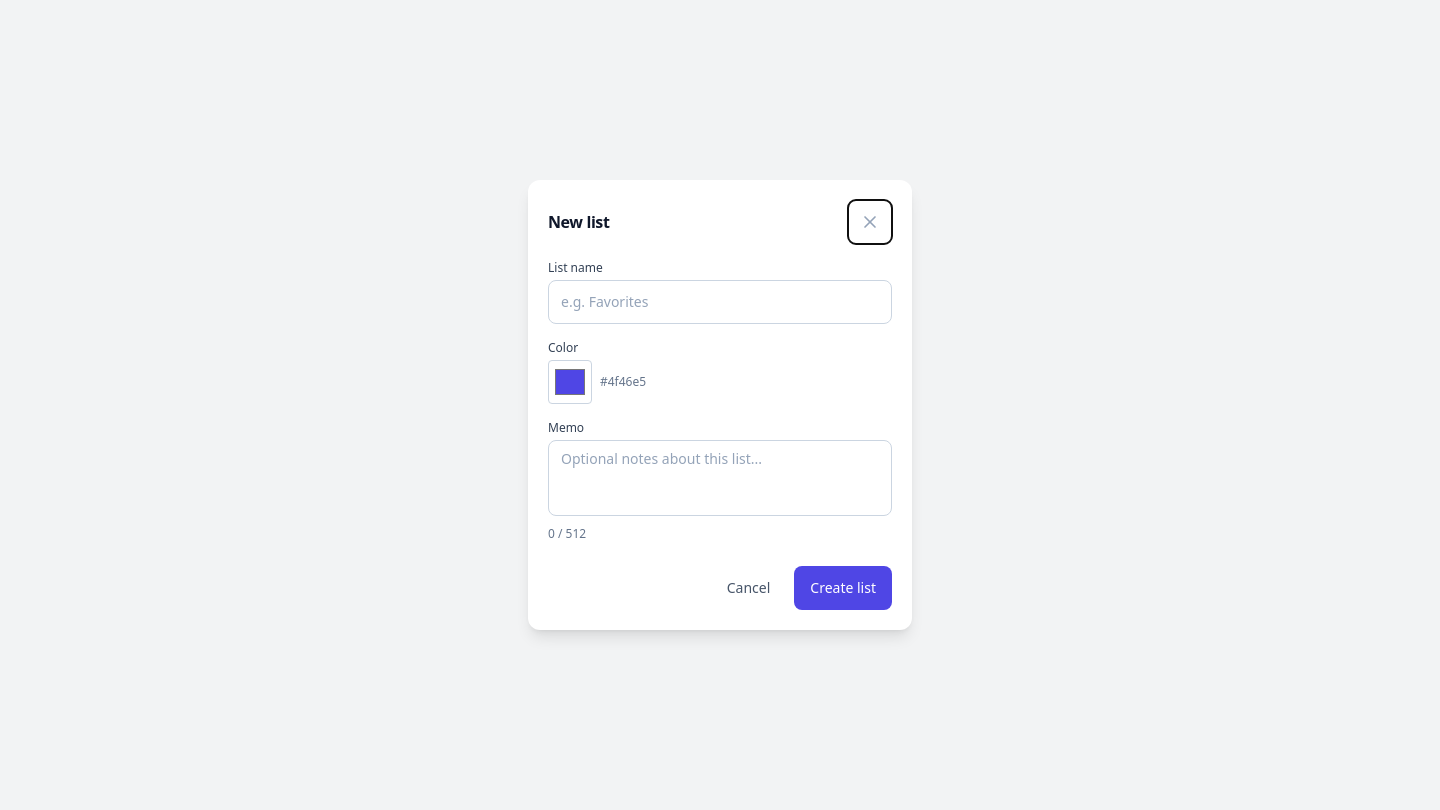
Test: ListFormDialog › shows a live counter
The width and height of the screenshot is (1440, 810).
Type "abc" into the text box labelled "Memo" at [720, 478], box [548,440,892,516]
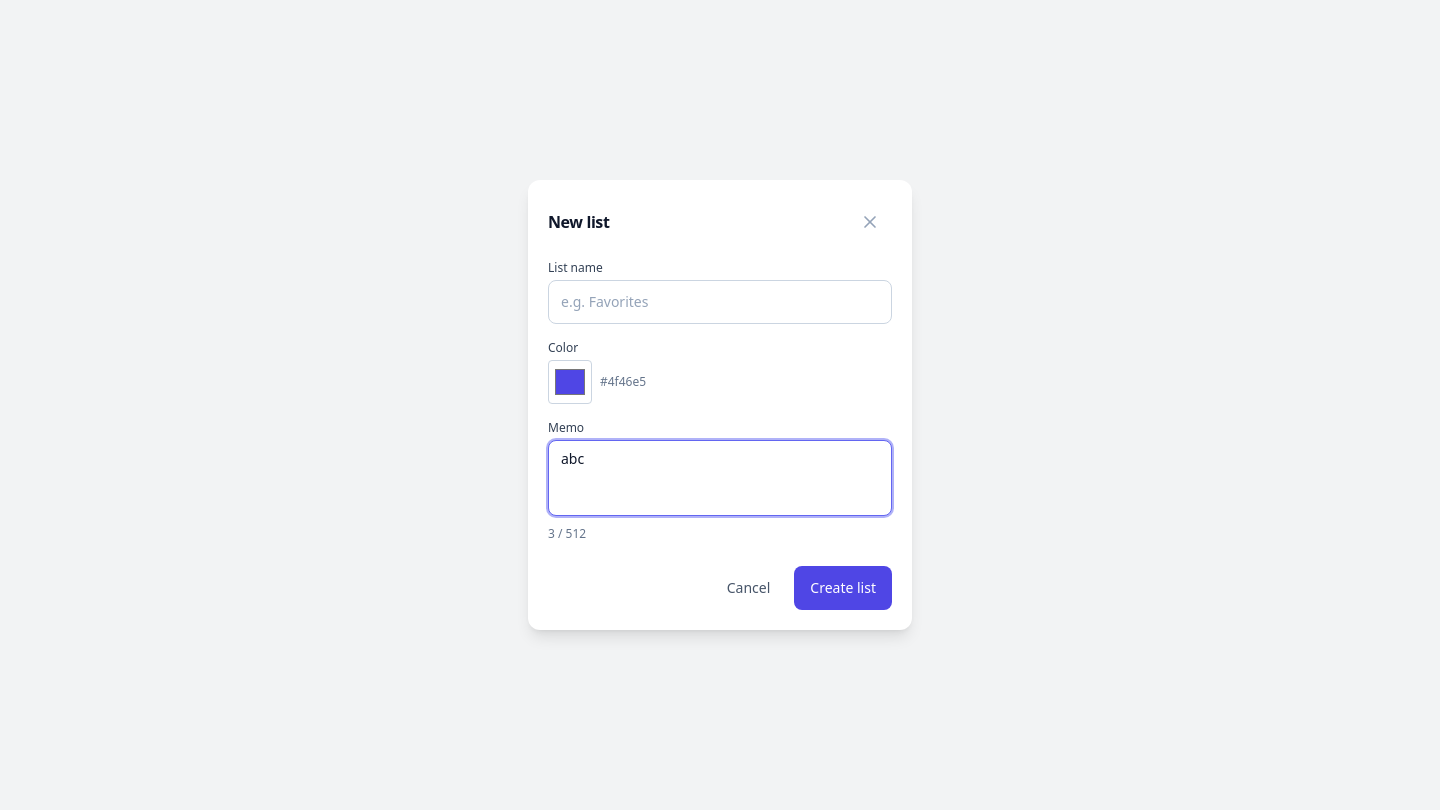
Now the text "3 / 512" is shown, box [548,525,586,542]
